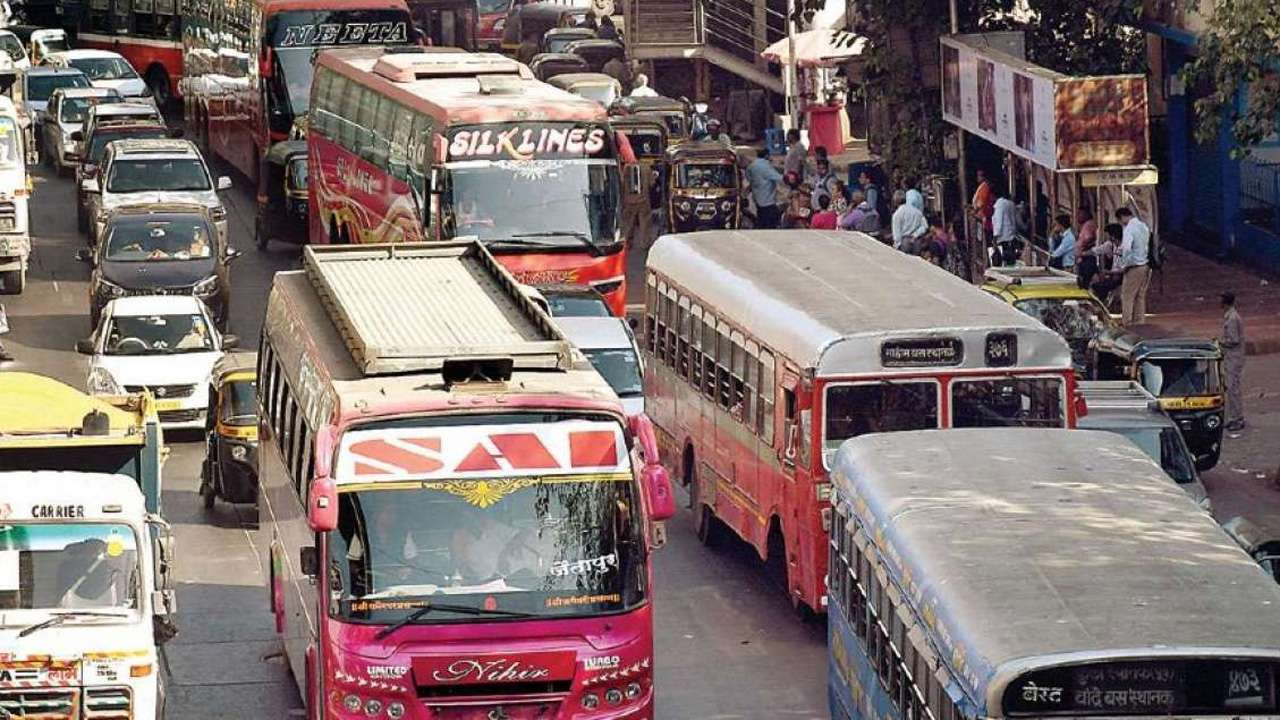bus: (258, 245, 664, 715), (821, 432, 1280, 704), (662, 233, 1083, 521), (309, 45, 629, 298)
car: (97, 285, 222, 410), (80, 215, 256, 289), (94, 144, 226, 221)
rickshaw: (1095, 315, 1229, 447), (650, 138, 748, 224)
truck: (2, 374, 175, 716)
